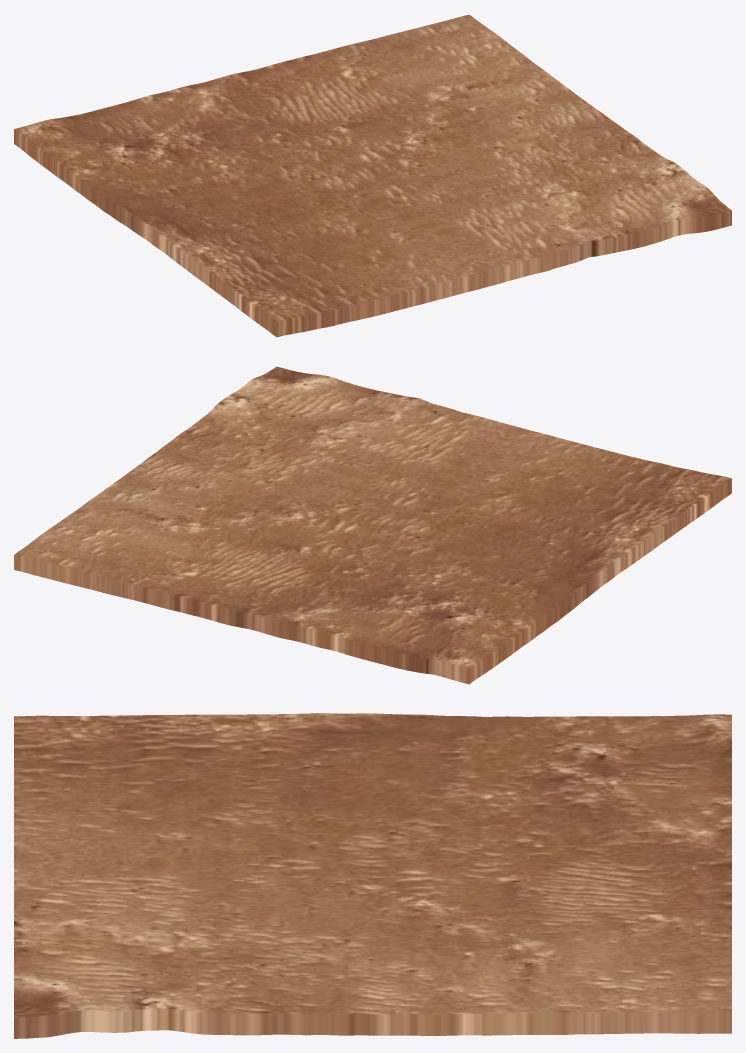
3 views of the same model, one above another, from view 1: azimuth 30°, elevation 25°; view 2: azimuth 150°, elevation 25°; view 3: azimuth 270°, elevation 25° (orthographic). The views are drawn at different scales.
Parts seen in each view (by area): view 1: L6_38_50; view 2: L6_38_50; view 3: L6_38_50.
Part boxes in pixels (x1,y1,x2,y2): L6_38_50: [14, 14, 731, 337]; L6_38_50: [14, 366, 731, 684]; L6_38_50: [14, 713, 731, 1038].
Bounding box in the file's own units: 225 × 11.78 × 225.
1 material, 1 textured.
